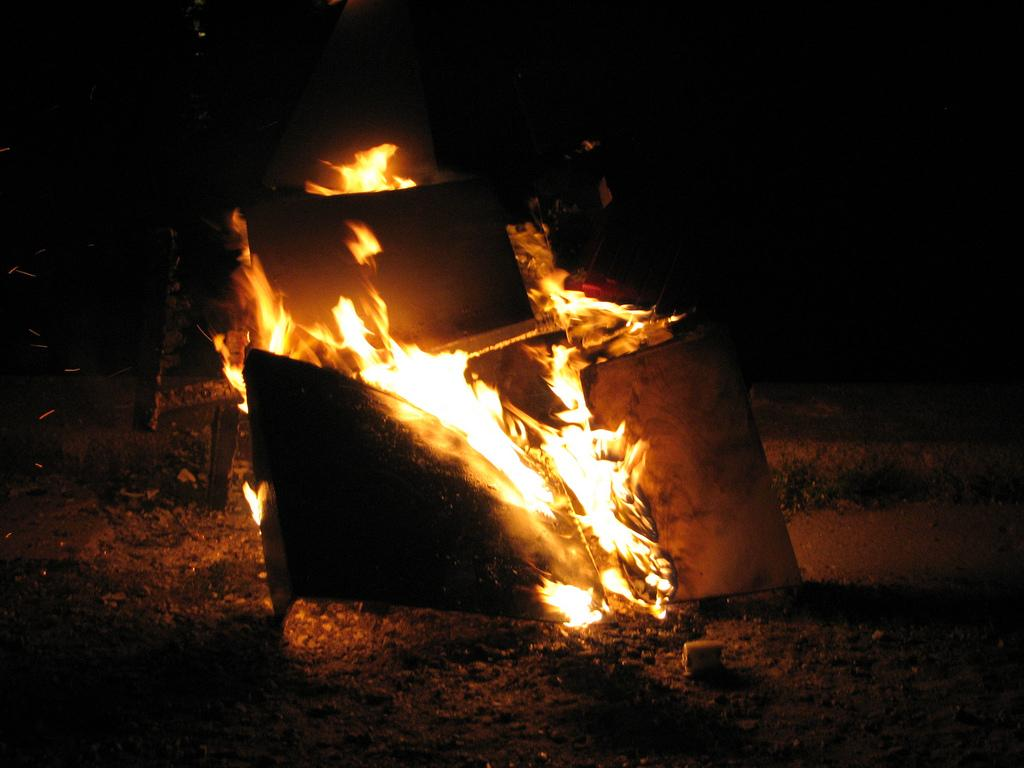fire: (548, 406, 644, 566), (410, 338, 502, 440), (344, 136, 382, 202)
